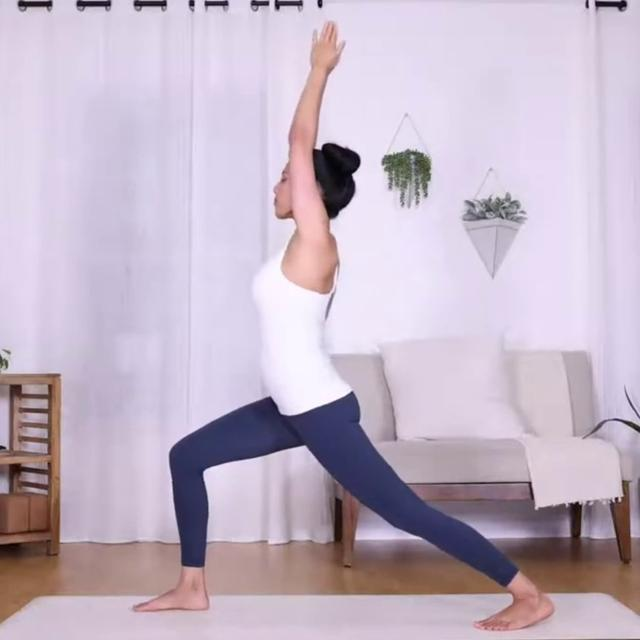Warrior_I: (131, 15, 560, 640)
